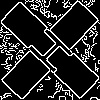H: (25, 25, 83, 83)
